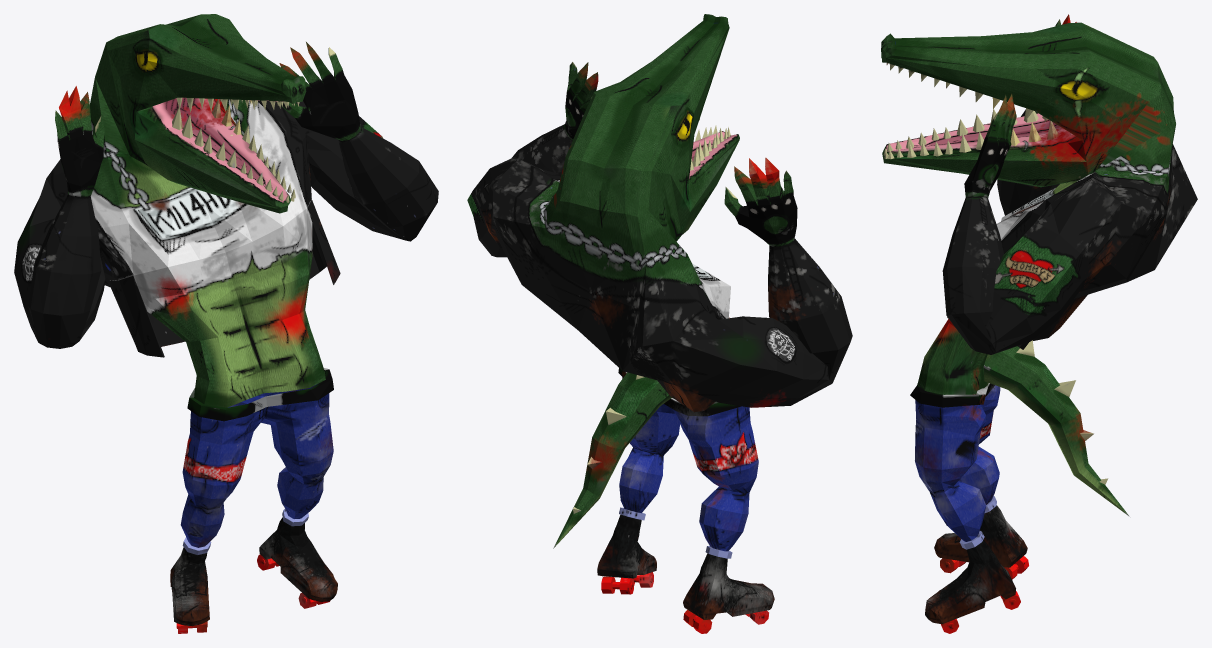
File: cocodrilaBonesSelect_000009.obj
3 renders of one model, left to right at view 1: azimuth 30°, elevation 25°; view 2: azimuth 150°, elevation 25°; view 3: azimuth 270°, elevation 25°, orthographic.
Parts seen in each view (by area): view 1: Crocodile.002_Cylinder.002; view 2: Crocodile.002_Cylinder.002; view 3: Crocodile.002_Cylinder.002.
Part boxes in pixels (x1,y1,x2,y2): Crocodile.002_Cylinder.002: [14, 14, 438, 633]; Crocodile.002_Cylinder.002: [467, 14, 852, 633]; Crocodile.002_Cylinder.002: [881, 14, 1197, 633].
Bounding box in the file's own units: 4.66 × 6.58 × 3.34.
